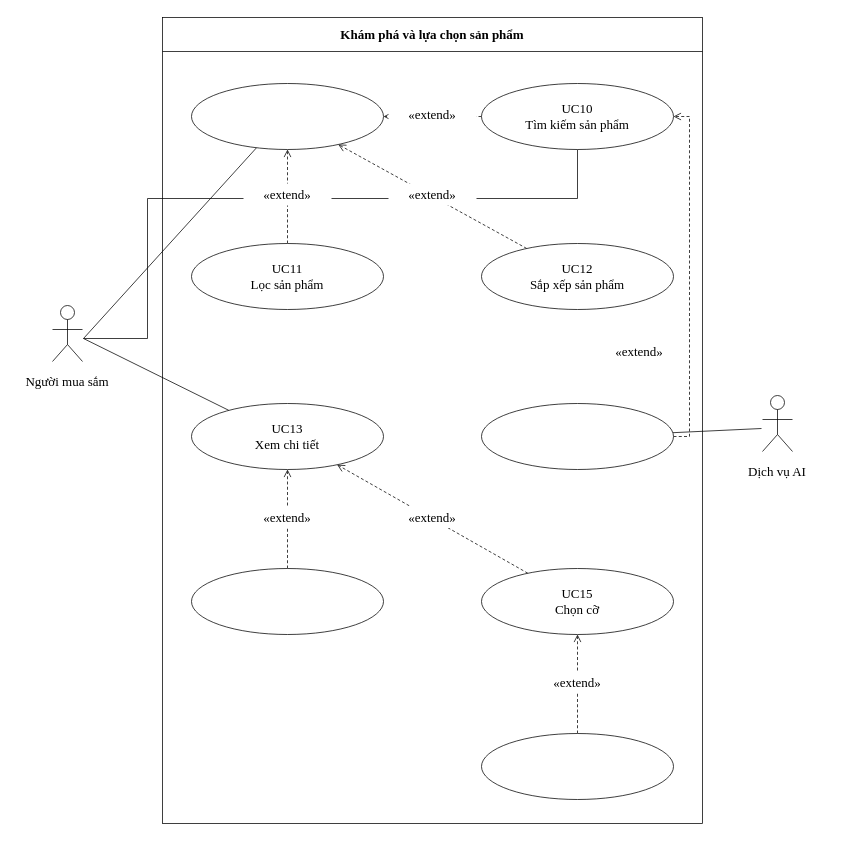
Image size: 844x841. Some labels were removed from this diagram. Here are the shapes that lost their labels. From the top down, the box of each, then its label:
(191, 83, 383, 149): UC09 Xem danh sách
(481, 403, 673, 469): UC10.1 Tìm bằng hình ảnh
(191, 568, 383, 634): UC14 Chọn màu
(481, 733, 673, 799): UC15.1 Gợi ý cỡ phù hợp
